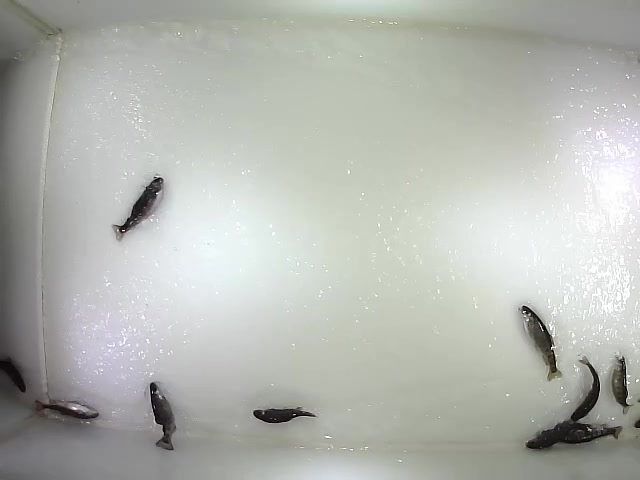fish: (110, 175, 165, 243), (517, 304, 564, 383), (570, 355, 602, 423), (525, 424, 606, 450), (149, 381, 178, 452), (540, 425, 624, 444), (611, 354, 635, 417), (33, 398, 101, 420), (252, 406, 318, 424)
